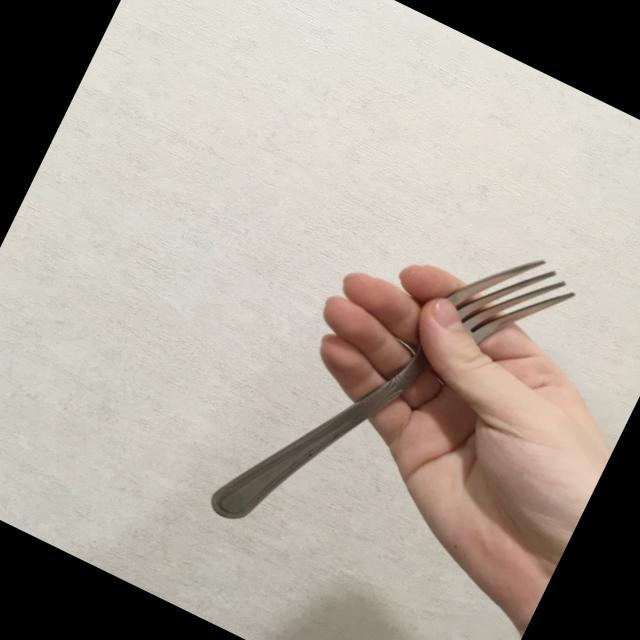fork: (202, 170, 587, 616)
